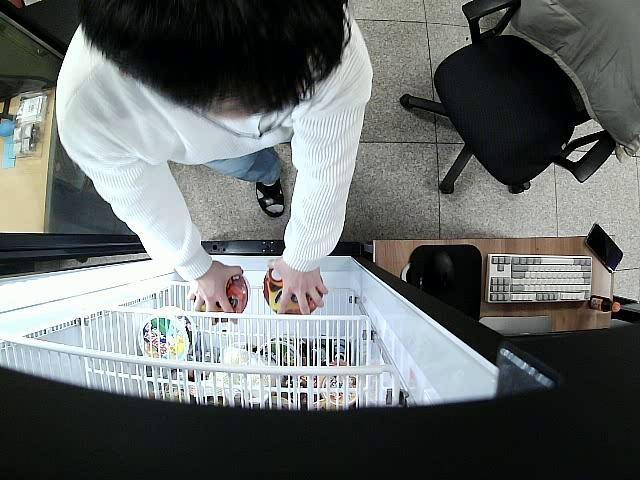05_nuguri_L: (262, 266, 322, 316), (198, 270, 252, 318)
